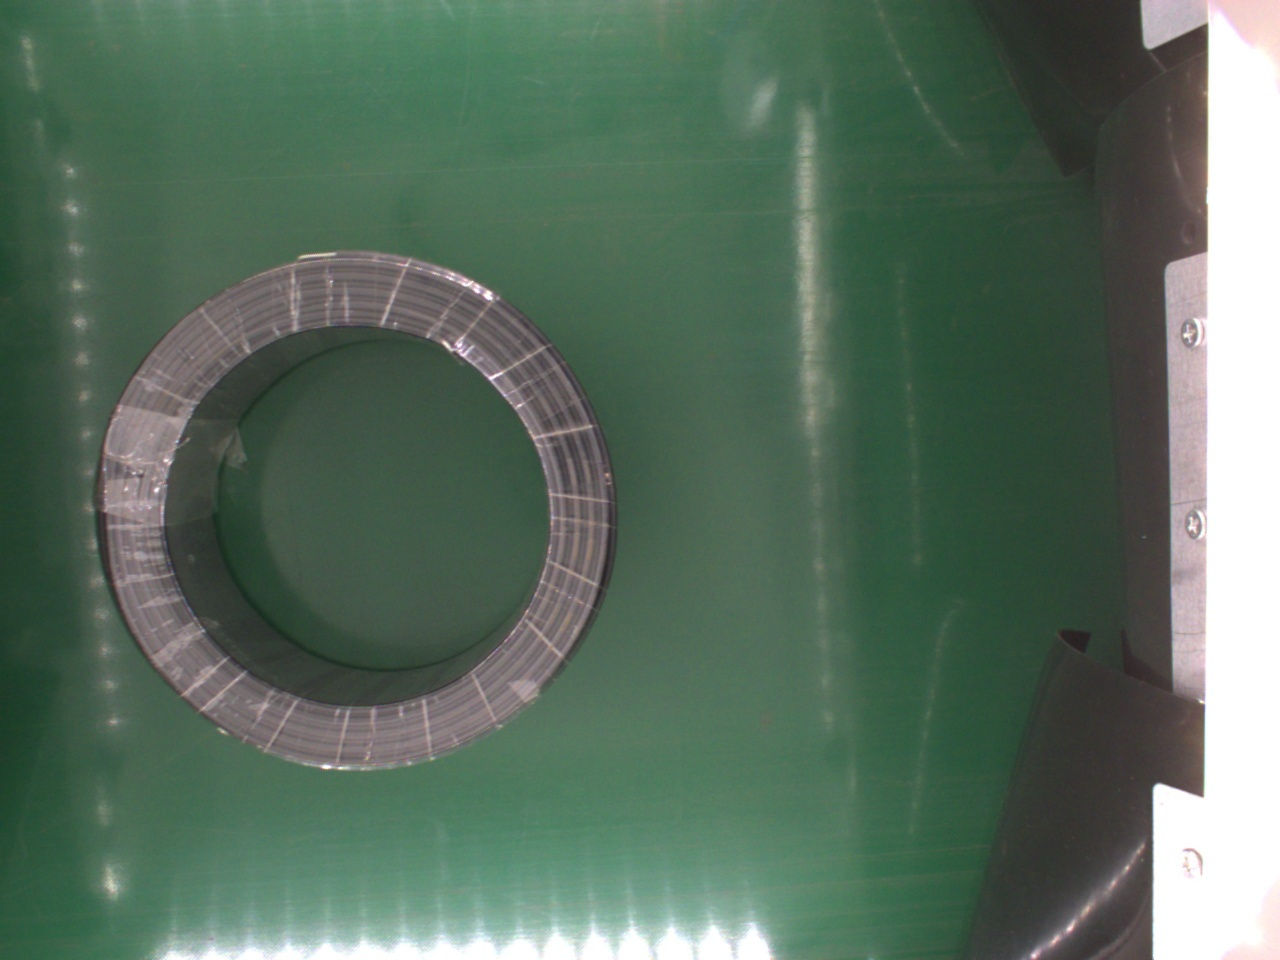black: (90, 255, 616, 771)
